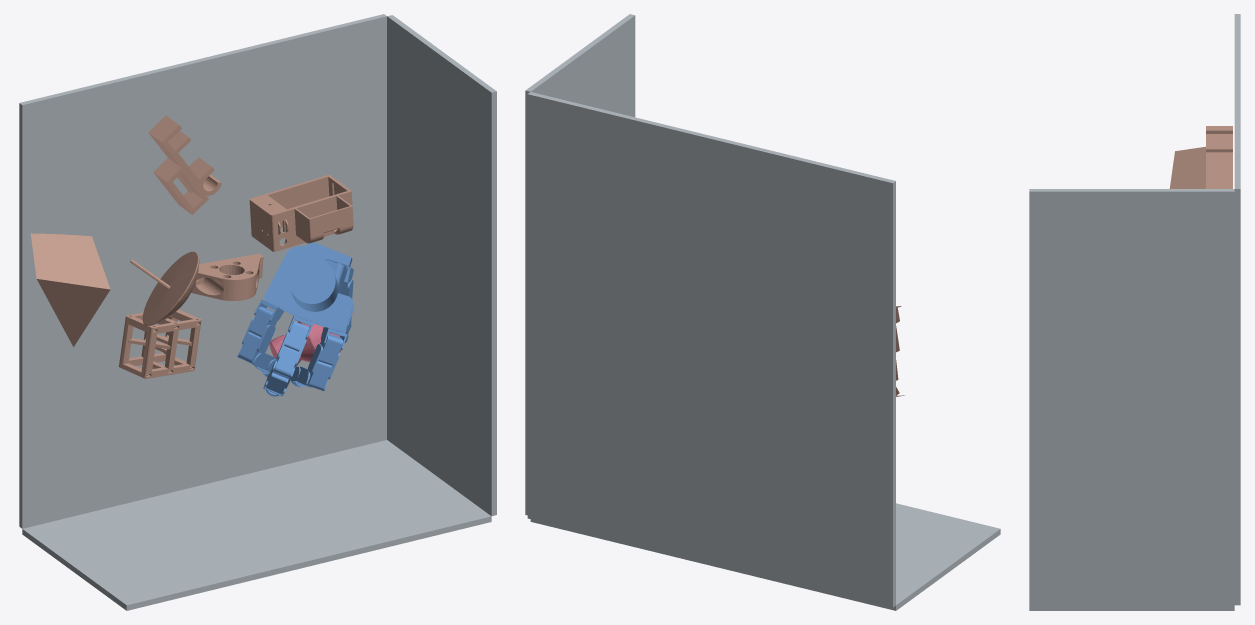
3 renders of one model, left to right at view 1: azimuth 30°, elevation 25°; view 2: azimuth 150°, elevation 25°; view 3: azimuth 270°, elevation 25°, orthographic.
Parts seen in each view (by area): view 1: environment, hand, obstacle_005, obstacle_000, obstacle_003, obstacle_001, obstacle_002, obstacle_004, world; view 2: environment; view 3: environment, obstacle_001, obstacle_000.
Boxes of the visible parts, x1,y1,x2,y2 form: environment: [19, 14, 496, 610]; hand: [237, 242, 354, 396]; obstacle_005: [249, 175, 353, 251]; obstacle_000: [30, 233, 110, 346]; obstacle_003: [119, 309, 201, 378]; obstacle_001: [148, 115, 221, 214]; obstacle_002: [191, 253, 263, 300]; obstacle_004: [130, 251, 199, 325]; world: [269, 321, 340, 364]; environment: [525, 14, 1000, 610]; environment: [1029, 14, 1240, 610]; obstacle_001: [1206, 126, 1232, 188]; obstacle_000: [1169, 146, 1205, 188].
Size of the model in its own units: 0.5734 by 0.6089 by 0.2765.
